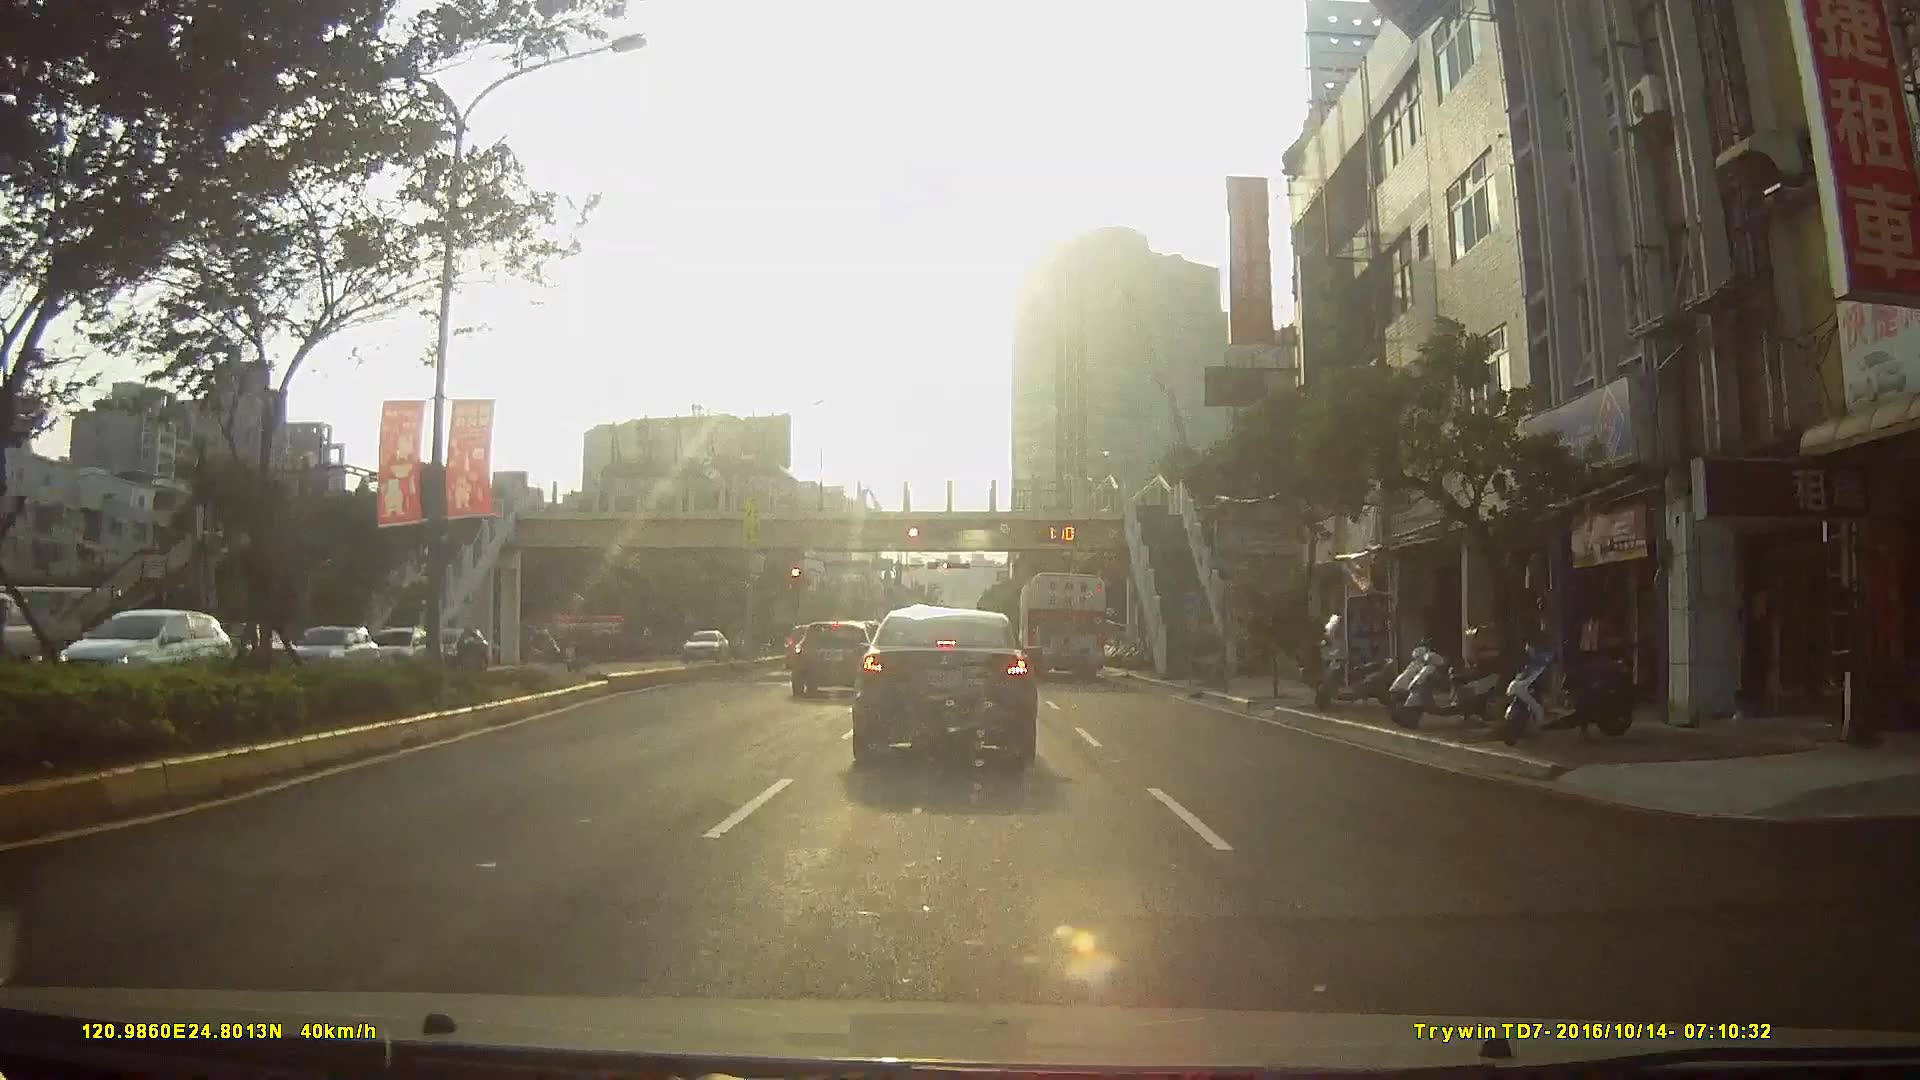rider: (561, 624, 594, 672)
vehicle: (849, 604, 1040, 764), (1016, 567, 1111, 679), (786, 616, 876, 698), (286, 624, 380, 676), (422, 624, 489, 669), (677, 625, 729, 662)
